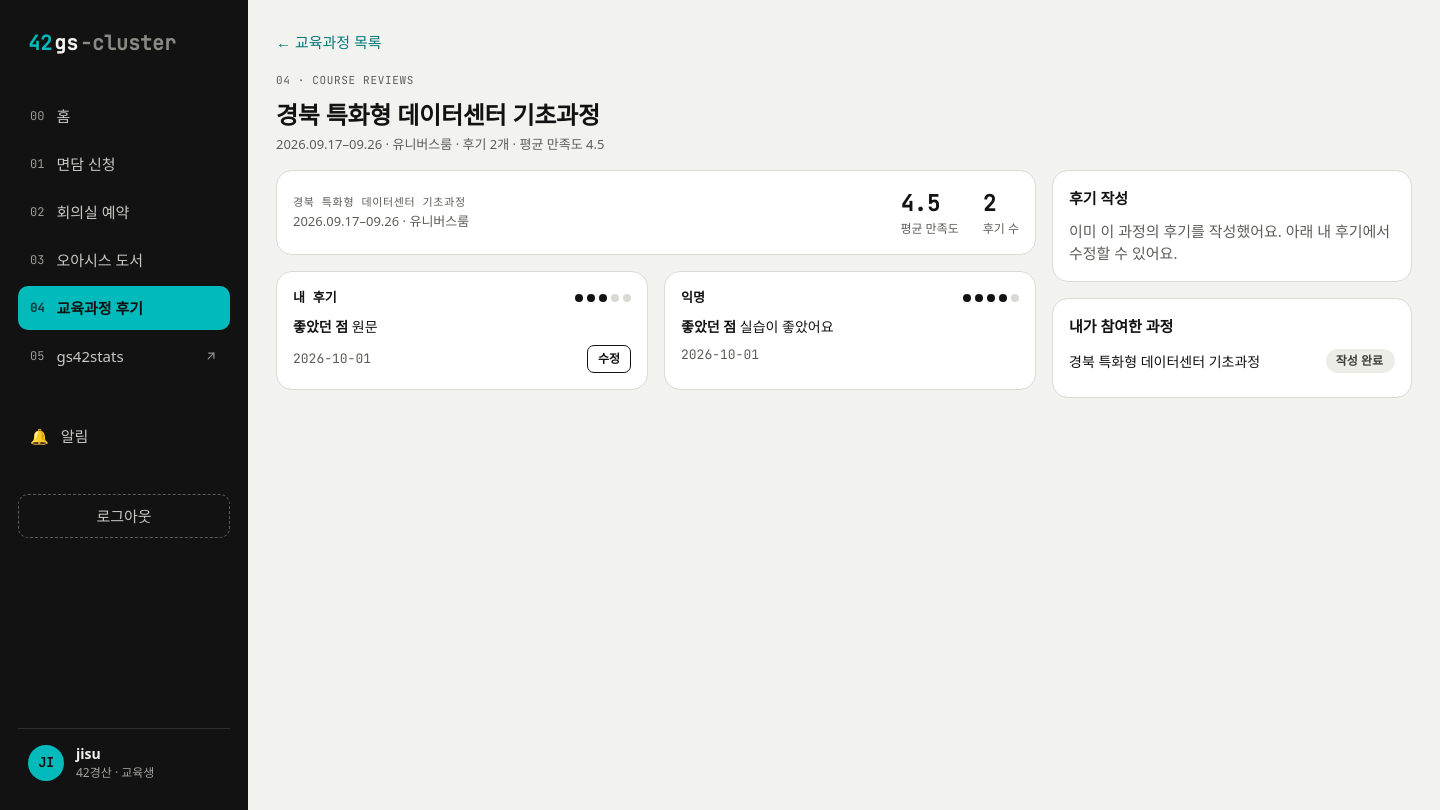
Scenario: 교육과정 후기 게시판 › 내 후기에만 수정 버튼이 있고(삭제는 없음), 팝업에서 수정하면 PATCH로 보낸다
Expected: the heading "경북 특화형 데이터센터 기초과정" is shown, [276,96,604,132]
Click the button with aria-label "내 후기 수정".
click(609, 358)  # box [587,344,631,372]
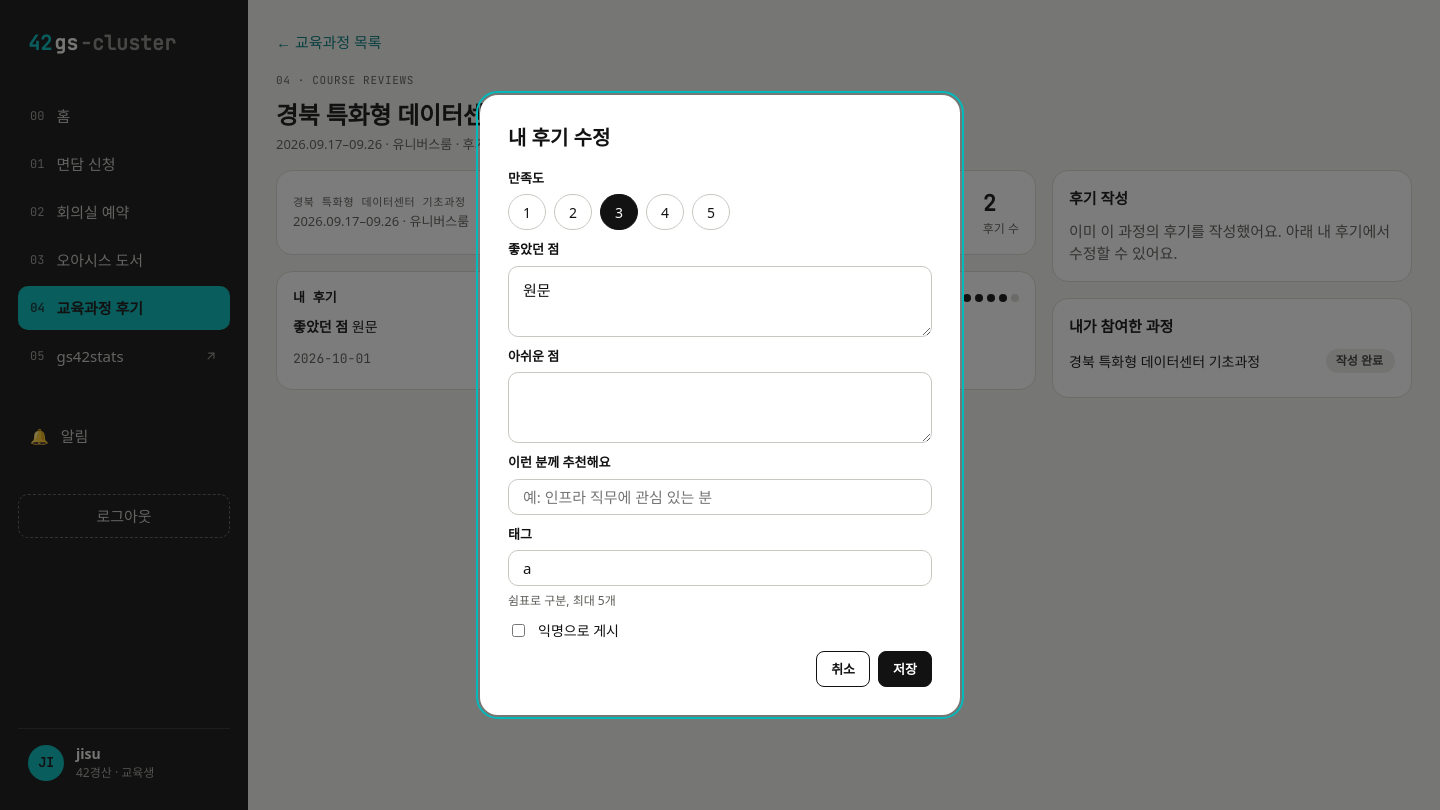
Expected: the text box labelled "좋았던 점" holds "원문", [508,266,932,337]
Click the button named "5점".
click(711, 212)  # box [692,194,730,230]
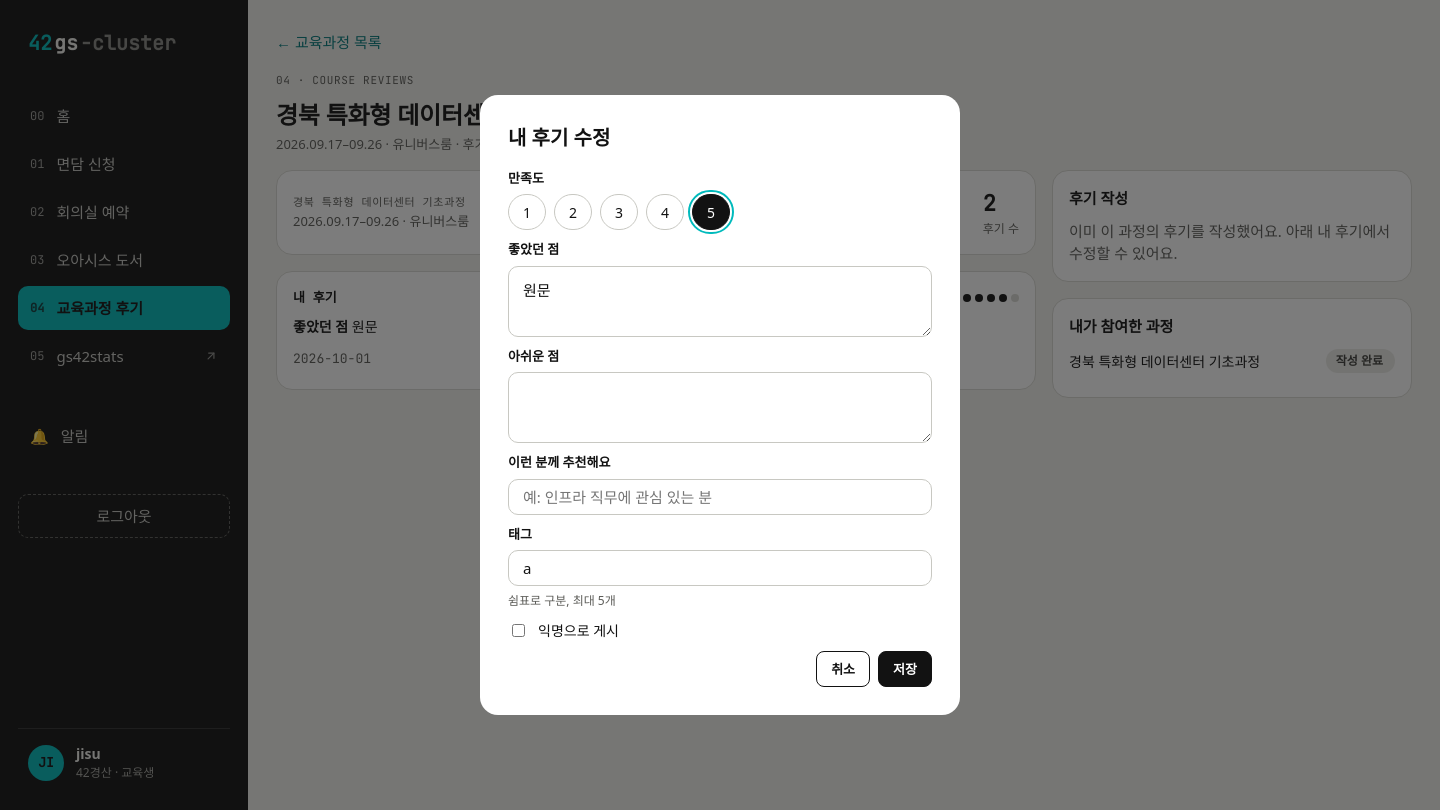
Replace the text in the text box labelled "좋았던 점" with "수정함" at (720, 301), box [508,266,932,337]
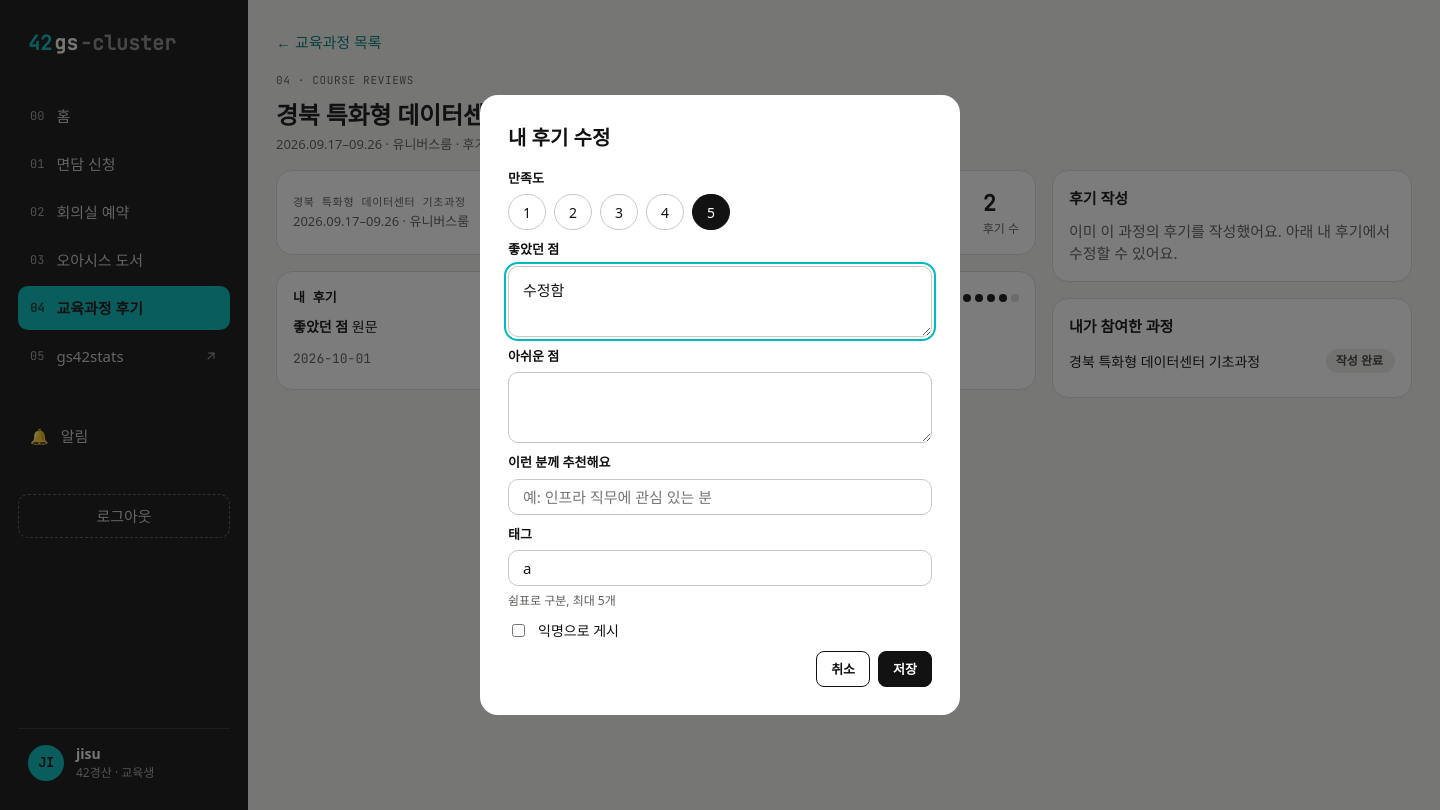
Click the button "저장".
click(905, 669)  # box [878,651,932,687]
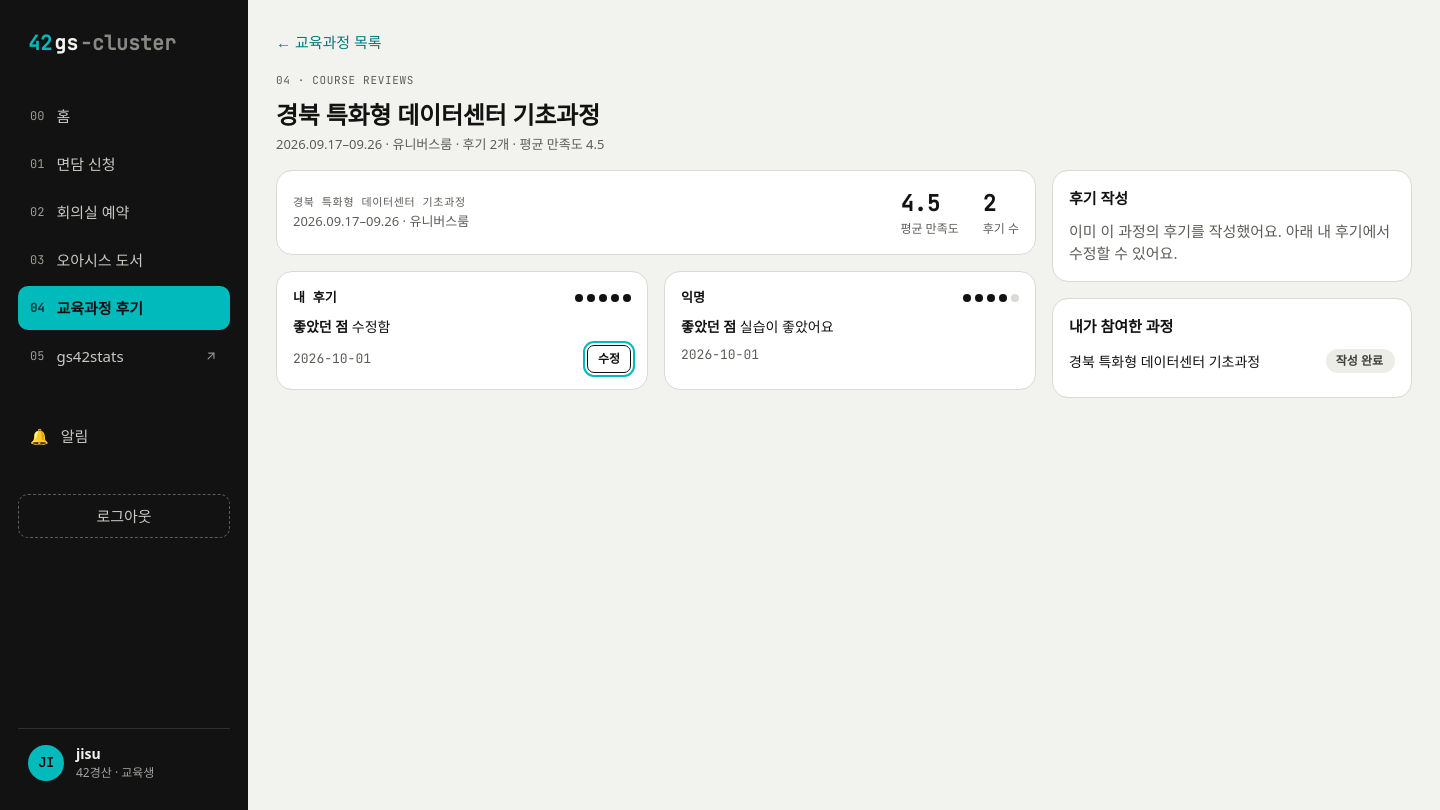
Expected: the dialog is gone
Expected: the text "수정함" is shown, [352,316,390,336]
